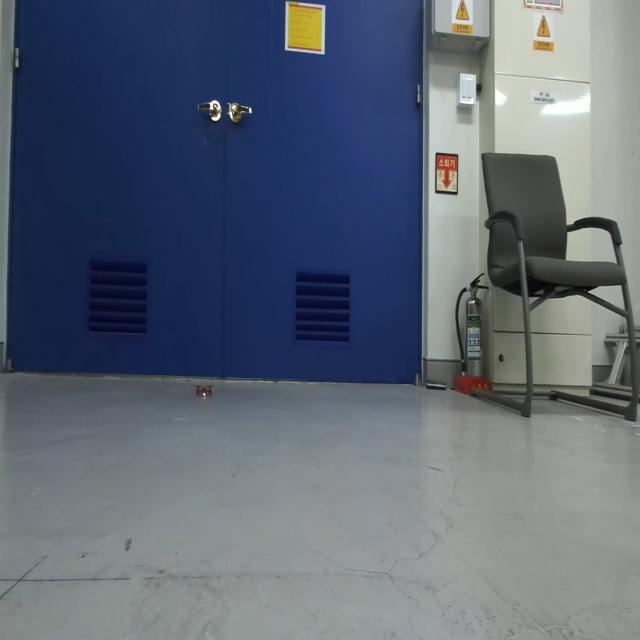crazyflie: (191, 379, 216, 404)
